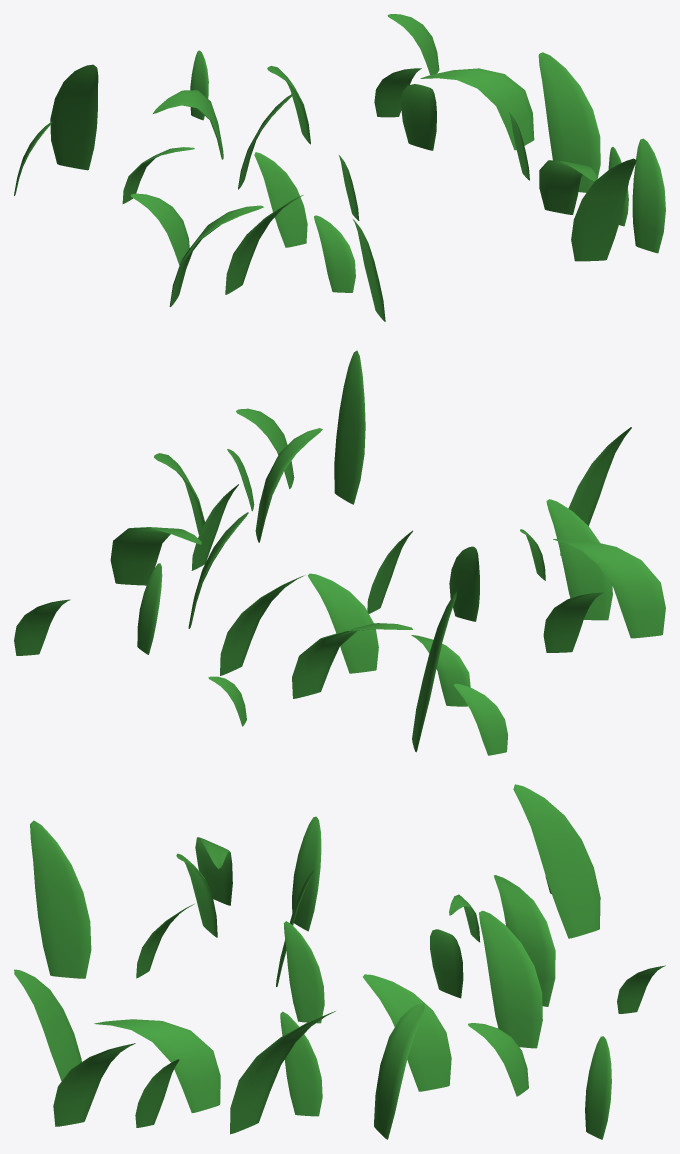
File: grass clump 8.fbx
The picture shows the model from 3 angles, top to bottom: view 1: azimuth 30°, elevation 25°; view 2: azimuth 150°, elevation 25°; view 3: azimuth 270°, elevation 25°; orthographic projection. The views are drawn at different scales.
Visible parts, largest first — view 1: Grass Clump 8; view 2: Grass Clump 8; view 3: Grass Clump 8.
Part boxes in pixels (<box>): Grass Clump 8: <box>14,14,665,321</box>; Grass Clump 8: <box>14,350,665,755</box>; Grass Clump 8: <box>14,784,665,1139</box>.
Bounding box in the file's own units: 199 × 54.08 × 222.
